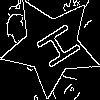H: (26, 21, 83, 76)
